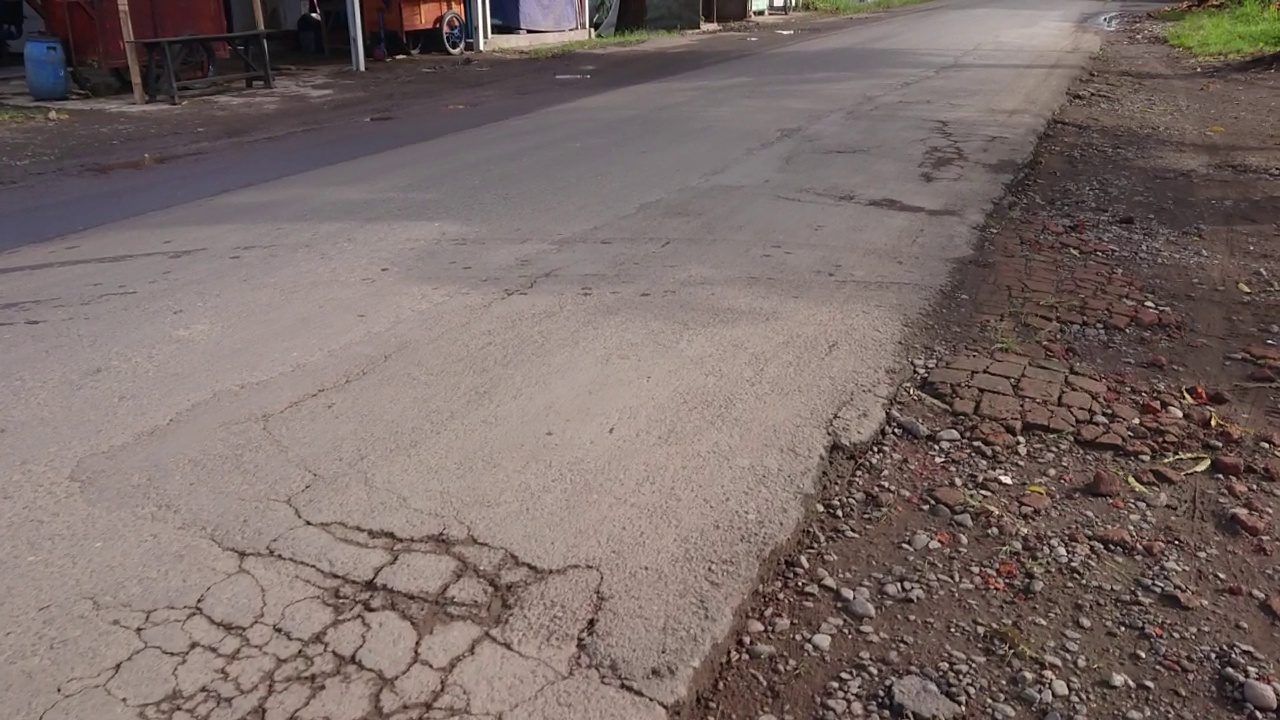Retak: (138, 504, 539, 720), (897, 112, 971, 192)
